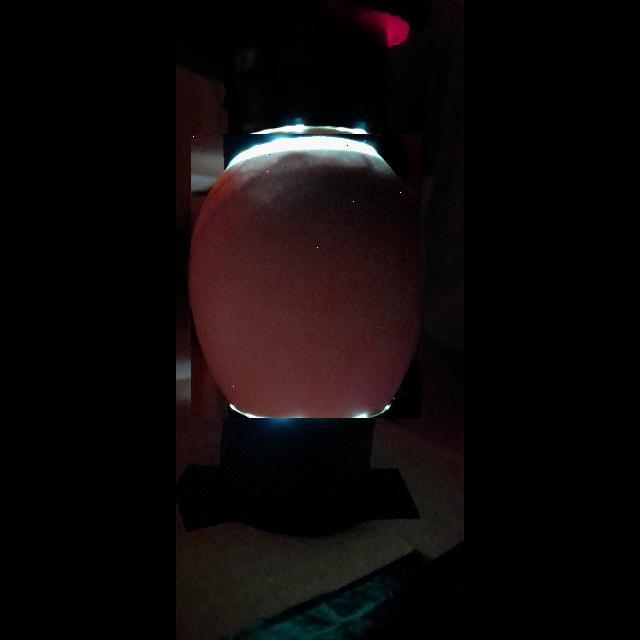Fertile: (191, 134, 421, 418)
